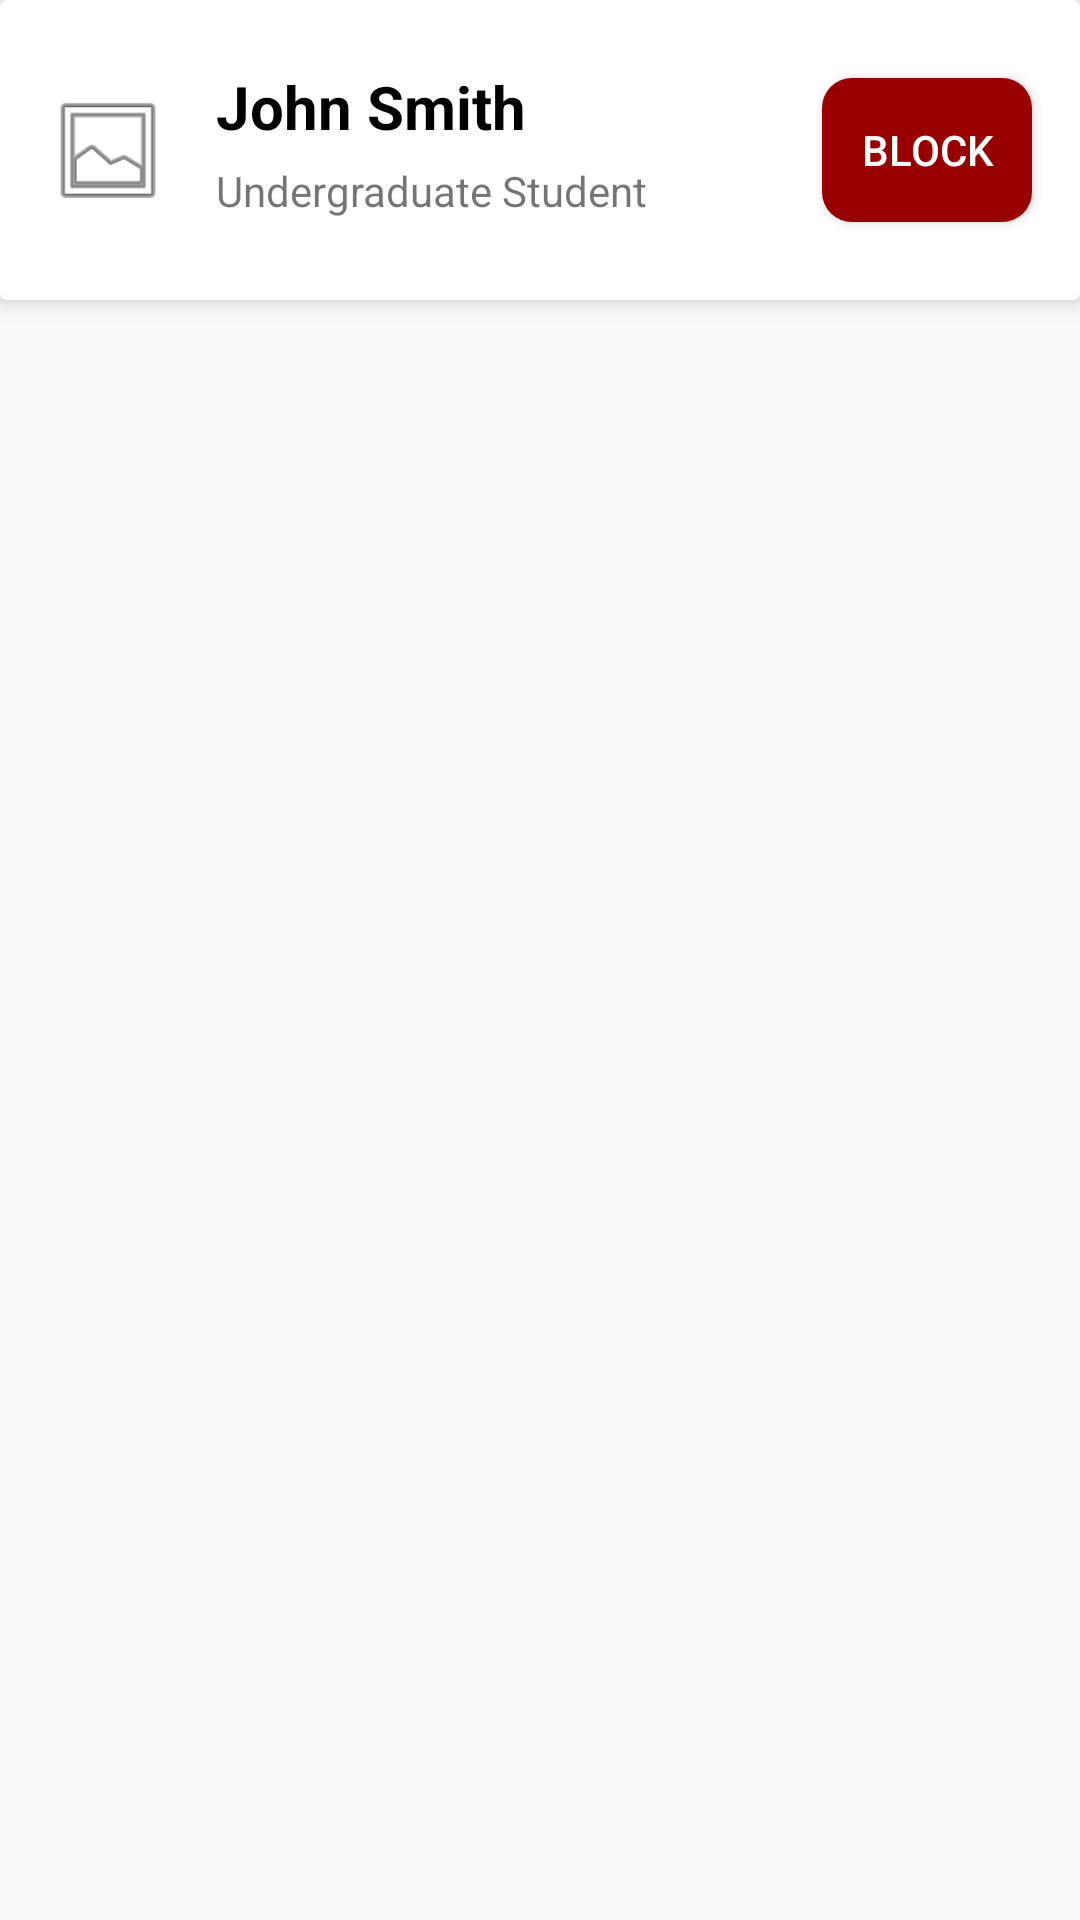

Named icons in this screenshot (1080×1920) and their centers, [x,y]:
gallery: [108,150]
